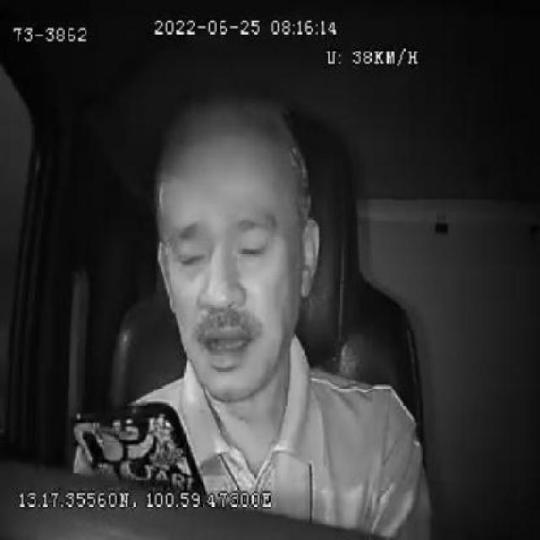phone: (69, 400, 206, 492)
